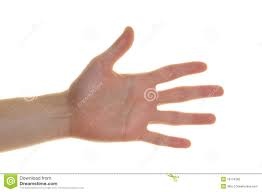hand: (65, 23, 228, 154)
